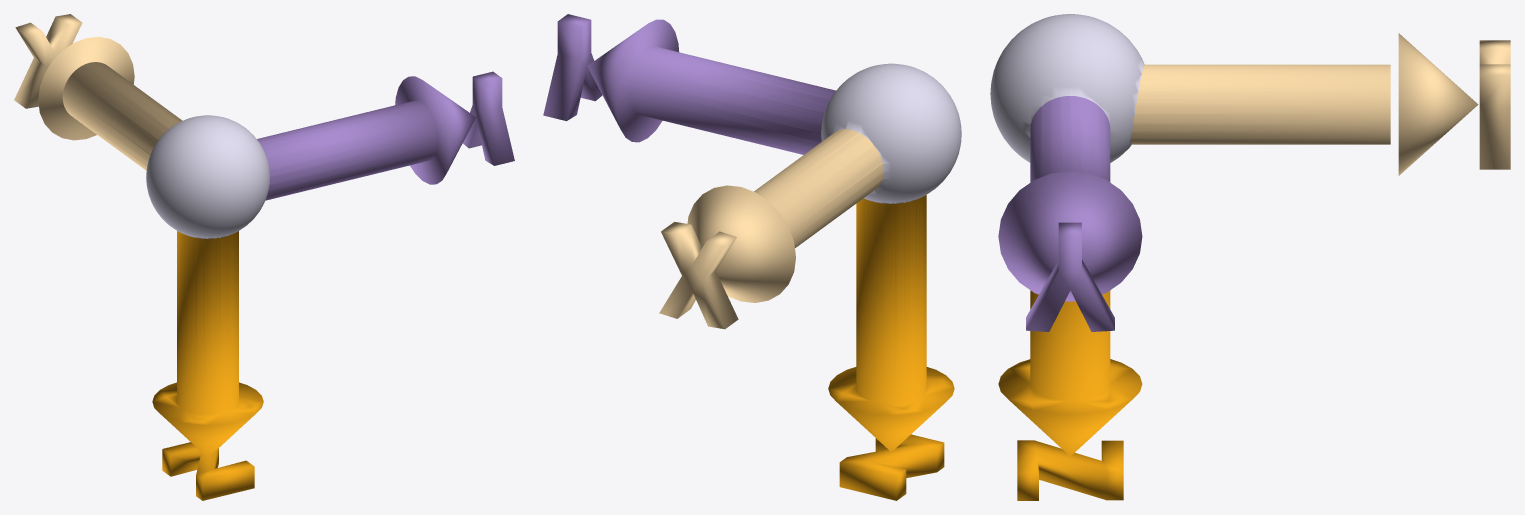
Rendered from model_xyz-C0Kw4aHS.glb.
3 renders of one model, left to right at view 1: azimuth 30°, elevation 25°; view 2: azimuth 150°, elevation 25°; view 3: azimuth 270°, elevation 25°, orthographic. The views are drawn at different scales.
Visible parts, largest first — view 1: obj_0; view 2: obj_0; view 3: obj_0.
Boxes of the visible parts, <box> form: obj_0: <box>14,14,514,500</box>; obj_0: <box>543,14,961,500</box>; obj_0: <box>990,14,1510,500</box>.
Size of the model in its own units: 32 by 31.93 by 32.5.
